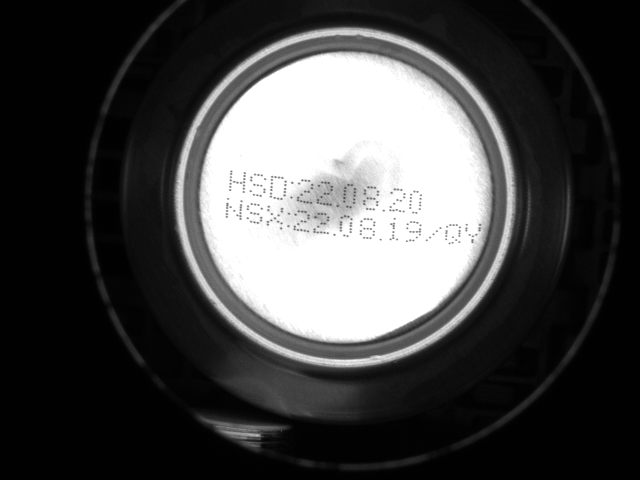/: (427, 223, 448, 246)
0: (340, 181, 365, 212), (335, 212, 360, 238), (407, 187, 426, 215)
1: (388, 218, 405, 245)
2: (383, 182, 408, 212), (315, 178, 339, 209), (289, 174, 312, 203), (291, 210, 313, 235), (316, 211, 334, 236)
8: (358, 215, 382, 240), (362, 183, 381, 210)
9: (405, 219, 424, 246)
D: (269, 175, 291, 201)
H: (228, 169, 249, 196)
N: (221, 197, 246, 223)
Q: (443, 221, 464, 245)
S: (245, 168, 268, 197), (244, 200, 264, 225)
X: (268, 204, 285, 227)
Y: (465, 219, 486, 244)
